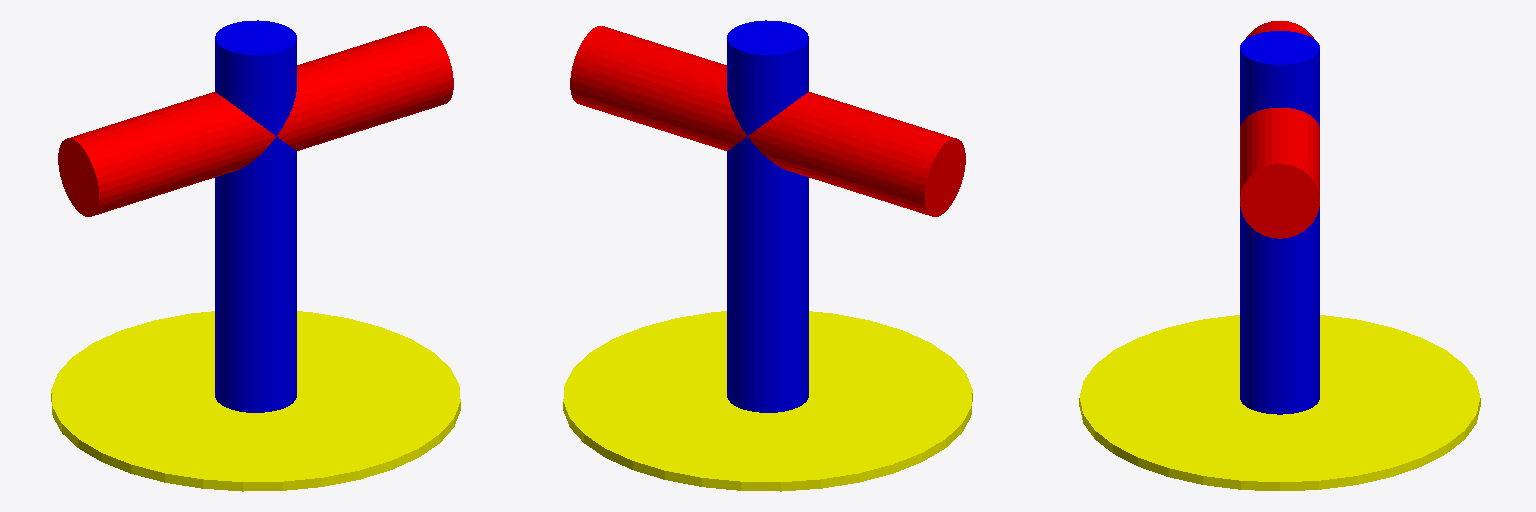
The robot description file, URDF, robot "pan_tilt":
<?xml version="1.0"?>
<robot name="pan_tilt">

  <link name="base_link">
    <visual>
      <geometry>
      <cylinder length="0.01" radius="0.2"/>
    </geometry>
      <origin rpy="0 0 0" xyz="0 0 0 "/>
      <material name="yellow">
        <color rgba="1 1 0 1"/>
      </material>
    </visual>
  </link>

  <joint name="pan_joint" type="revolute">
    <parent link="base_link"/>
    <child link="pan_link"/>
    <origin xyz="0 0 0.1"/>
    <axis xyz="0 0 1"/>
    <limit effort="300" velocity="0.1" lower="-3.14" upper="3.14" />
    <dynamics damping="50" friction="1" />
  </joint>

  <link name="pan_link">
    <visual>
      <geometry>
      <cylinder length="0.4" radius="0.04"/>
    </geometry>
      <origin rpy="0 0 0" xyz="0 0 0.09 "/>
      <material name="red">
        <color rgba="0 0 1 1"/>
      </material>
    </visual>
  </link>

  <joint name="tilt_joint" type="revolute">
    <parent link="pan_link"/>
    <child link="tilt_link"/>
    <origin xyz="0 0 0.2"/>
    <axis xyz="0 1 0"/>
    <limit effort="300" velocity="0.1" lower="-3.14" upper="3.14" />
    <dynamics damping="50" friction="1" />
  </joint>

  <link name="tilt_link">
    <visual>
      <geometry>
      <cylinder length="0.4" radius="0.04"/>
    </geometry>
      <origin rpy="0 1.5 0" xyz="0 0 0 "/>
      <material name="green">
        <color rgba="1 0 0 1"/>
      </material>
    </visual>
  </link>
</robot>

--- Render facts (derived) ---
3 views of the same robot in one strip: view 1: azimuth 30°, elevation 25°; view 2: azimuth 150°, elevation 25°; view 3: azimuth 270°, elevation 25° (orthographic).
Model pan_tilt with 3 links and 2 joints (2 revolute), rooted at base_link, posed every joint at zero.
Links seen in each view (by area): view 1: base_link, tilt_link, pan_link; view 2: base_link, tilt_link, pan_link; view 3: base_link, pan_link, tilt_link.
Link boxes in pixels (bbox=[...]): base_link: bbox=[51, 311, 460, 491]; tilt_link: bbox=[58, 26, 453, 216]; pan_link: bbox=[215, 20, 296, 412]; base_link: bbox=[563, 311, 972, 491]; tilt_link: bbox=[570, 26, 965, 216]; pan_link: bbox=[727, 20, 808, 412]; base_link: bbox=[1079, 315, 1480, 490]; pan_link: bbox=[1240, 31, 1319, 414]; tilt_link: bbox=[1240, 21, 1319, 238].
Size in the robot's own frame: 0.4047 by 0.4 by 0.4 metres.
Geometry: primitives only (box / cylinder / sphere), no mesh files.